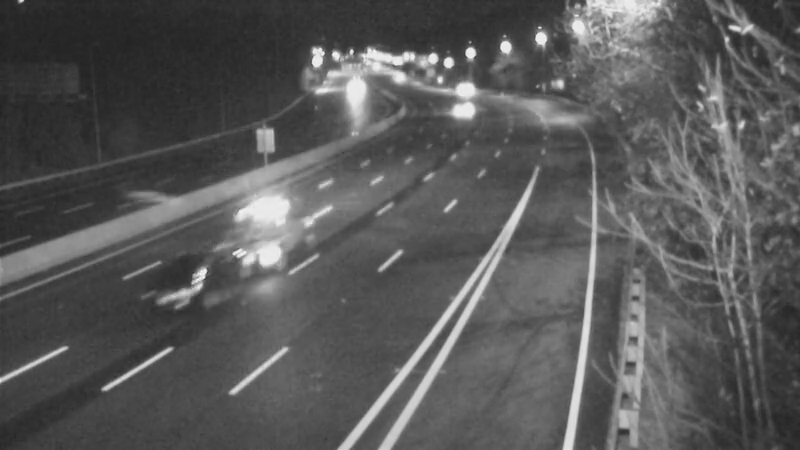vehicle: (212, 185, 292, 265), (371, 52, 421, 102), (438, 65, 488, 115), (431, 84, 481, 134), (332, 67, 382, 117)
